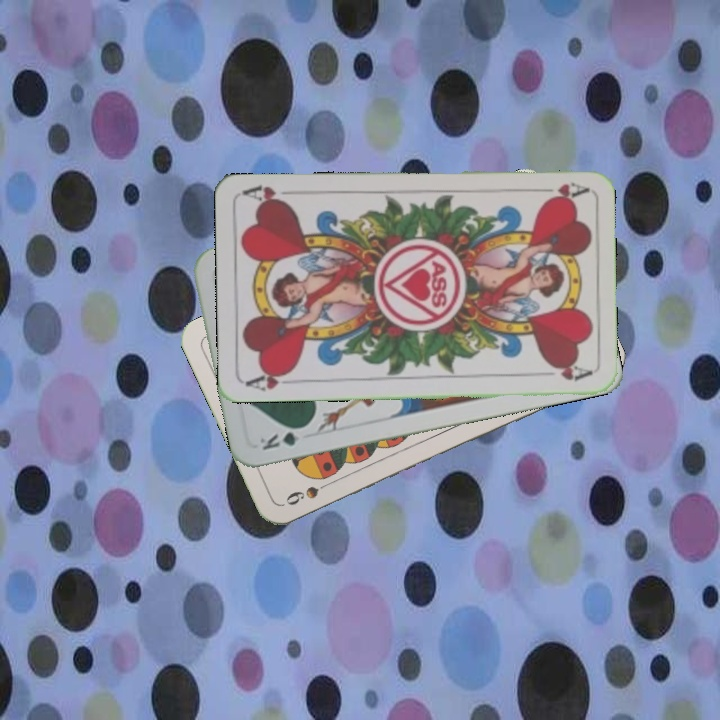GK: (255, 422, 311, 453)
HA: (243, 366, 302, 393), (529, 178, 589, 203)
S9: (281, 476, 337, 508)
